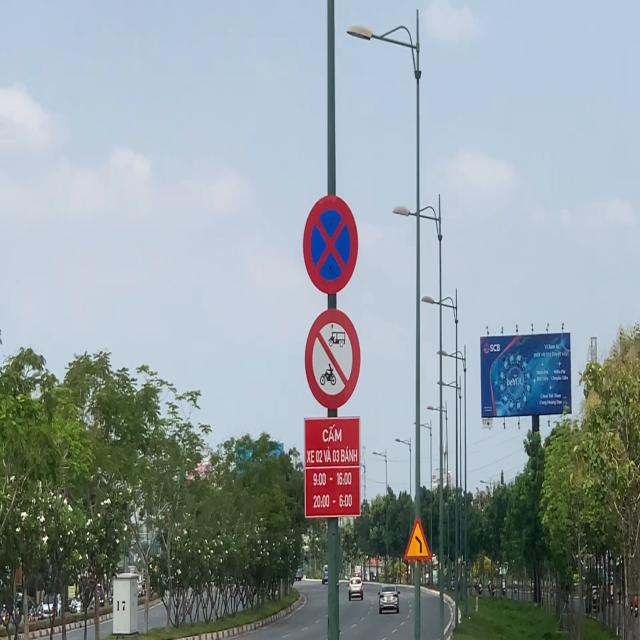Cam con lai: (306, 308, 362, 411)
Cam dung va do: (298, 195, 361, 296)
Nguy hiem: (402, 514, 432, 561)
